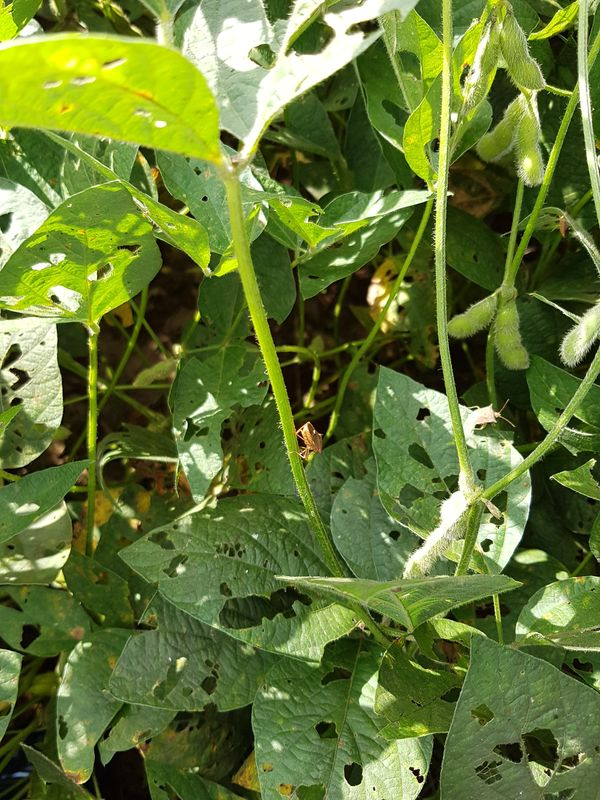Euschistus_heros_adulto: (462, 392, 521, 442), (285, 416, 332, 468), (547, 205, 580, 243)
